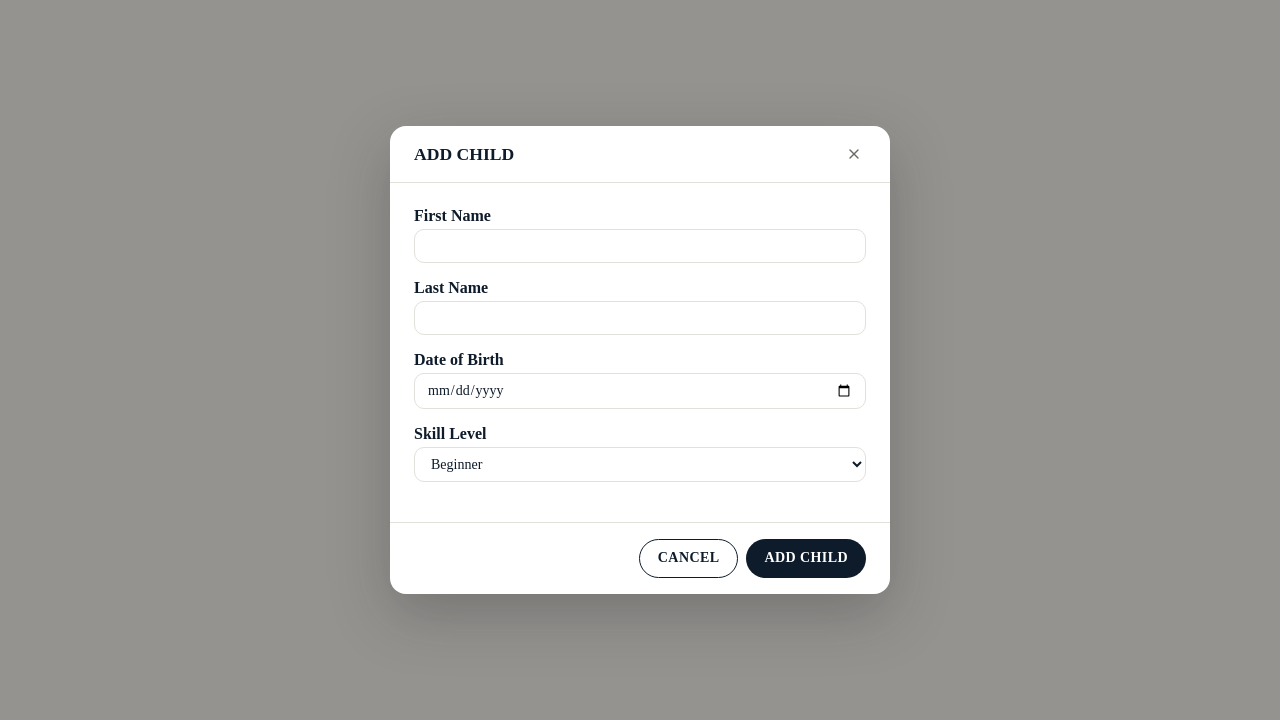
Test: AddChildModal › shows a client-side validation error and does not submit when names are blank
This screenshot has width=1280, height=720.
Click the button "Add Child" at (806, 558), box [746,539,866,578]
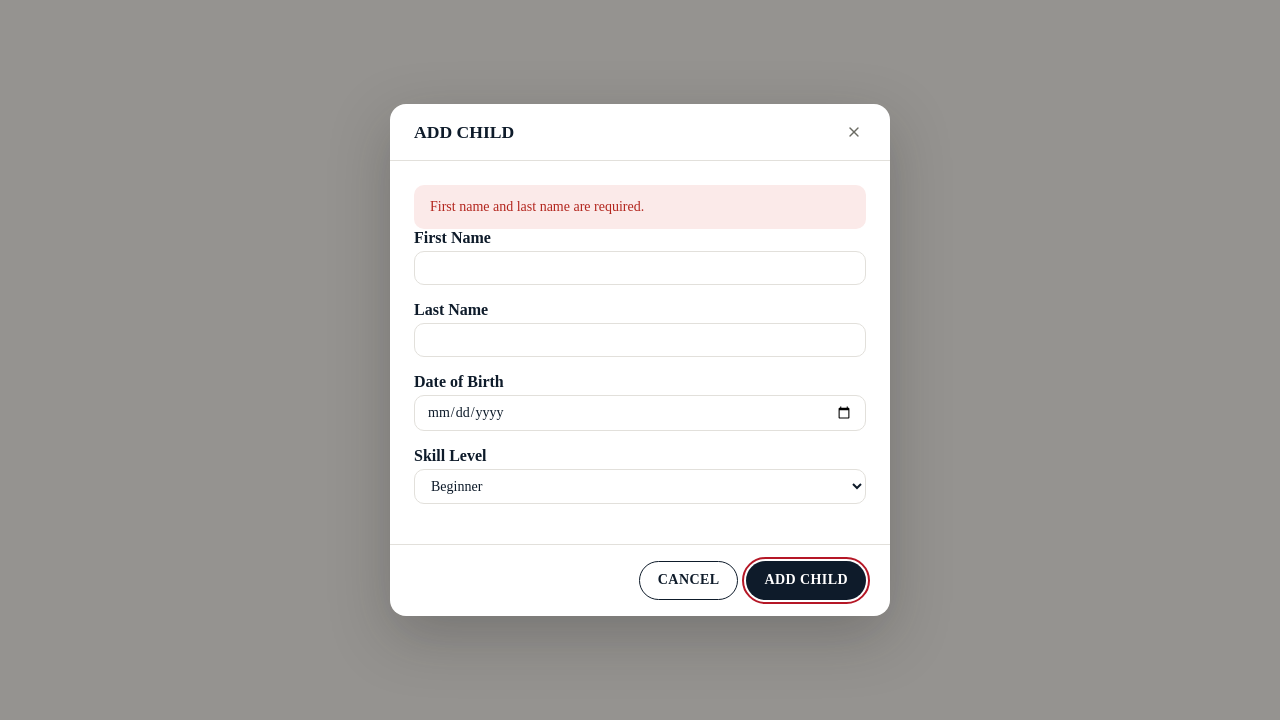
Check: the text "First name and last name are required." is shown, box [414,185,866,229]
